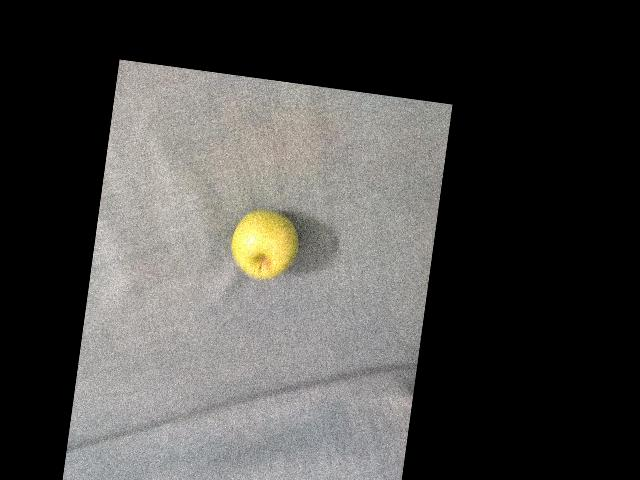apple: (237, 221, 294, 285)
